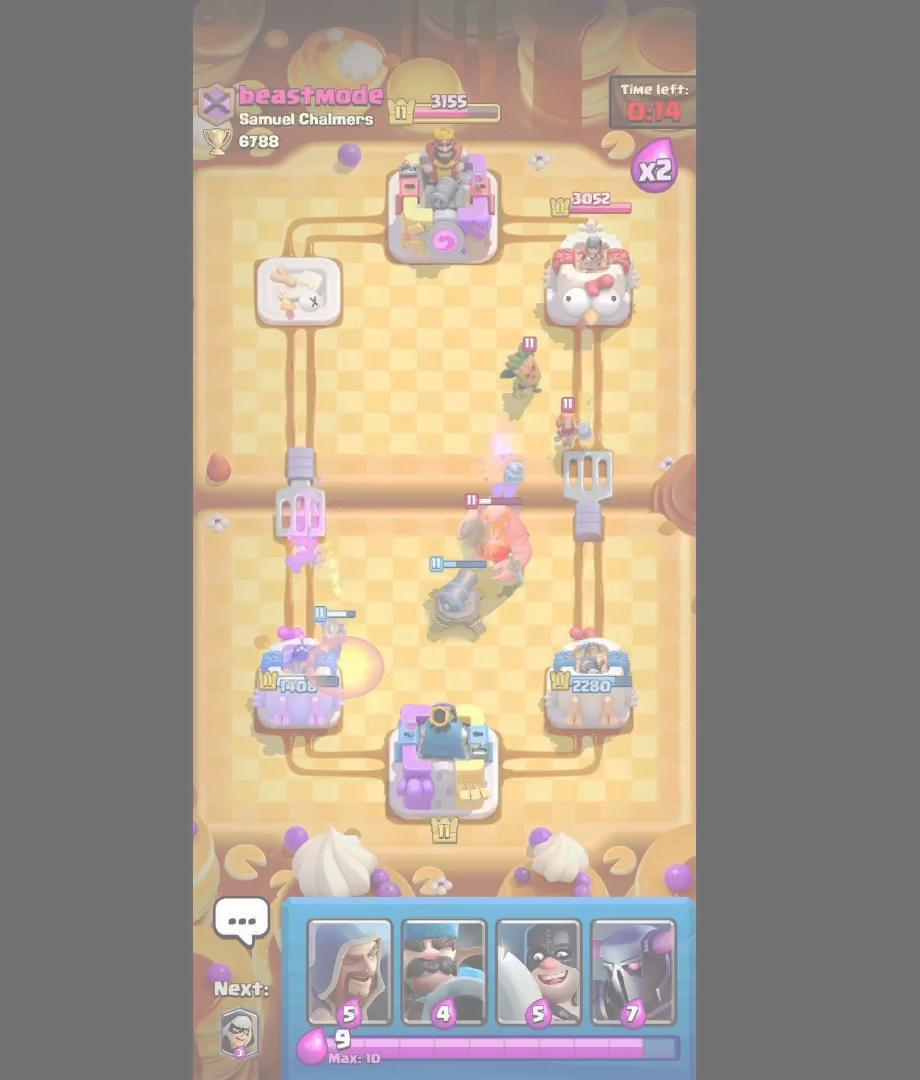Dart Goblin: (501, 333, 551, 406)
Giant: (455, 492, 535, 584)
Valkyrie: (549, 394, 594, 454)
